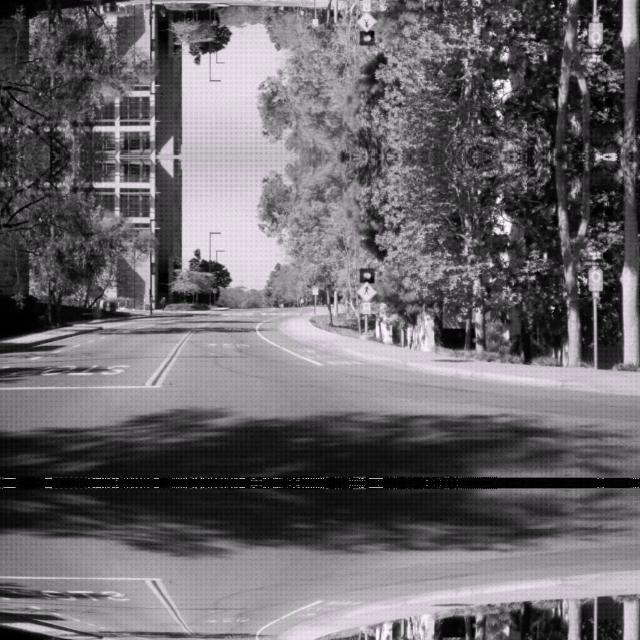pedestrianCrossing: (356, 280, 376, 300), (356, 12, 376, 32)
